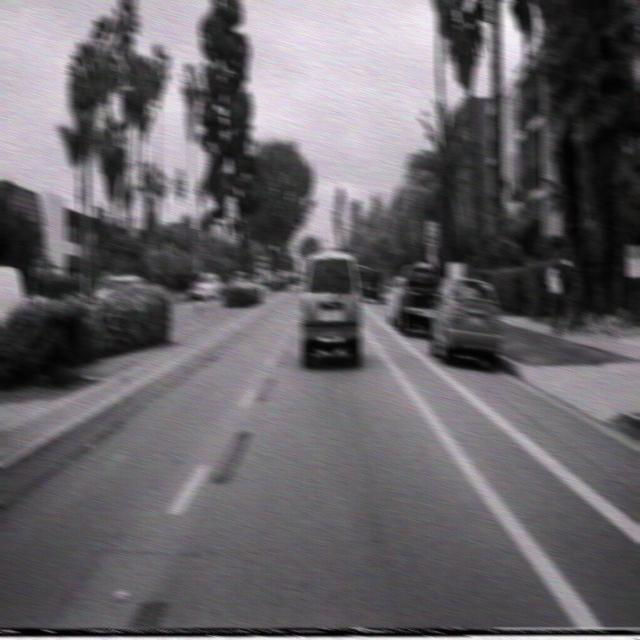speedLimit35: (424, 218, 439, 248)
